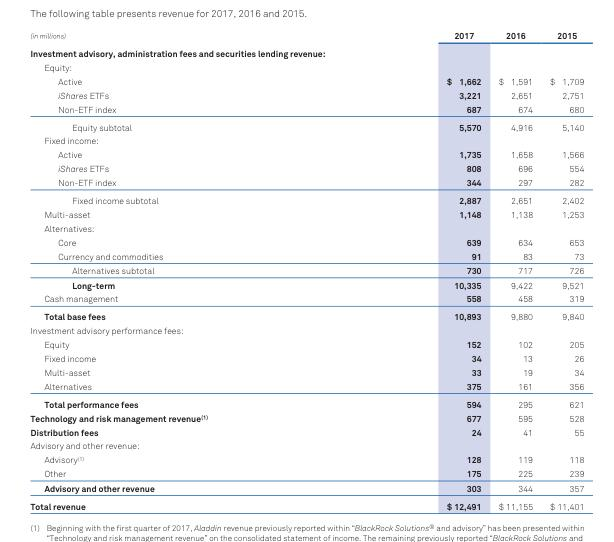table: (29, 29, 583, 511)
table column: (29, 29, 326, 511), (326, 29, 489, 511), (489, 29, 540, 511), (540, 29, 583, 511)
table column header: (29, 29, 583, 43)
table projected row header: (29, 43, 583, 60), (29, 133, 583, 147), (29, 323, 583, 337), (29, 438, 583, 452), (29, 60, 583, 73), (29, 221, 583, 234)
table row: (29, 43, 583, 60), (29, 101, 583, 117), (29, 117, 583, 133), (29, 175, 583, 191), (29, 191, 583, 207), (29, 291, 583, 307), (29, 307, 583, 323), (29, 378, 583, 394), (29, 394, 583, 410), (29, 480, 583, 496), (29, 262, 583, 277), (29, 496, 583, 511), (29, 29, 583, 43), (29, 73, 583, 87), (29, 87, 583, 101), (29, 133, 583, 147), (29, 147, 583, 161), (29, 161, 583, 175), (29, 207, 583, 221), (29, 234, 583, 248), (29, 248, 583, 262), (29, 277, 583, 291), (29, 323, 583, 337), (29, 337, 583, 351), (29, 351, 583, 365), (29, 410, 583, 424), (29, 424, 583, 438), (29, 438, 583, 452), (29, 452, 583, 466), (29, 466, 583, 480), (29, 60, 583, 73), (29, 221, 583, 234), (29, 365, 583, 378)
